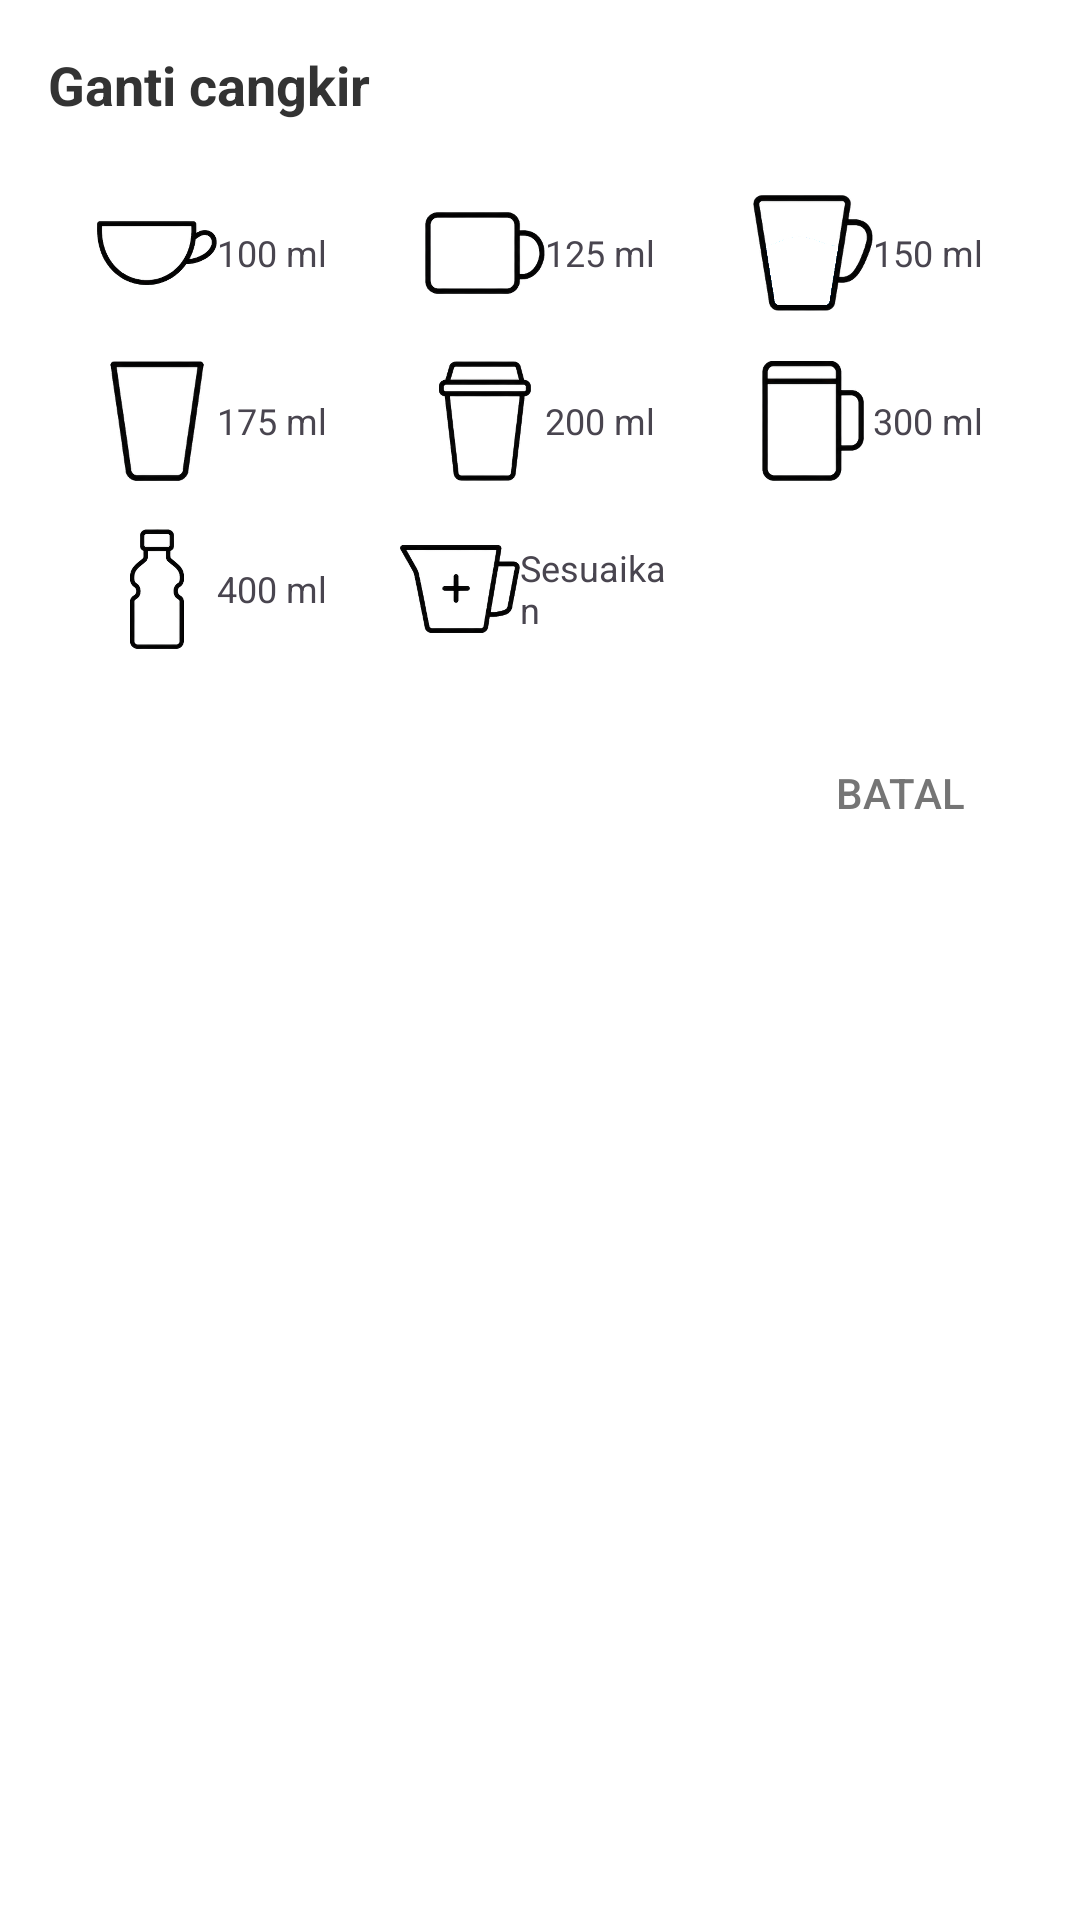

Locate icon controls on the screen. Image size 1080px x 1920px, boxes as Rect(x1, y1, x2, y2).
delapan medical mug: Rect(400, 545, 520, 633)
dua square mug: Rect(425, 212, 545, 294)
empat tall glass: Rect(110, 361, 204, 481)
enam thermos: Rect(762, 361, 864, 481)
lima takeaway: Rect(439, 361, 531, 481)
satu round cup: Rect(97, 221, 217, 285)
tiga water glass: Rect(753, 195, 873, 311)
tujuh bottle: Rect(130, 529, 184, 649)
